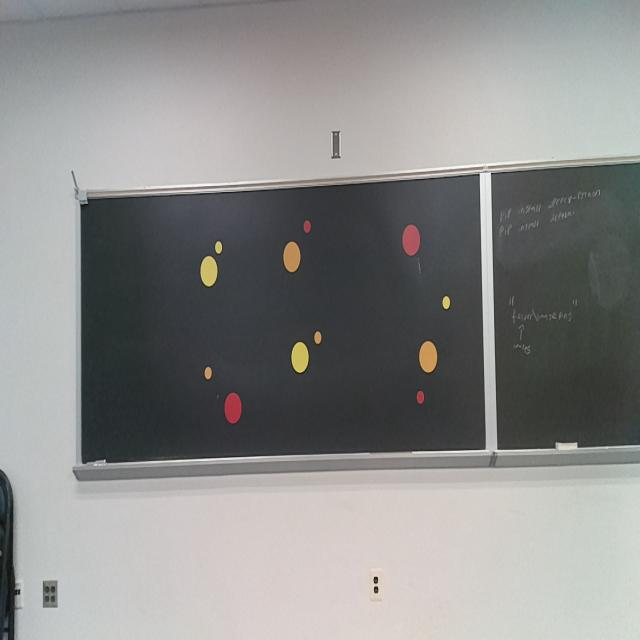Orange: (283, 240, 301, 275), (419, 340, 437, 374), (314, 329, 322, 346), (205, 365, 212, 381)
Red: (402, 223, 420, 257), (225, 391, 243, 425), (416, 389, 424, 406), (303, 219, 311, 235)
Yellow: (292, 340, 310, 375), (200, 254, 218, 288), (442, 295, 450, 312), (215, 240, 222, 256)
